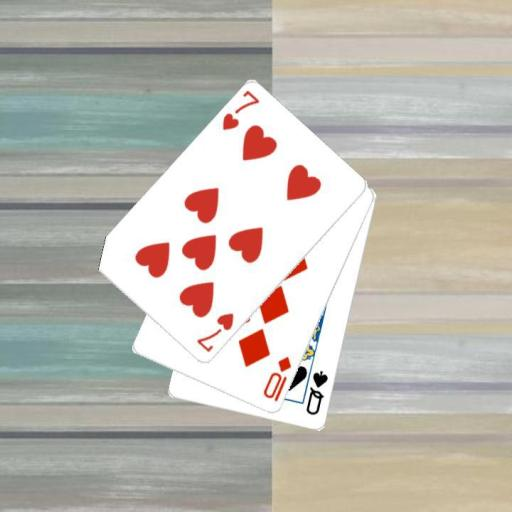10D: (260, 354, 293, 404)
7H: (219, 87, 261, 132), (194, 310, 236, 354)
QS: (303, 368, 330, 418)
